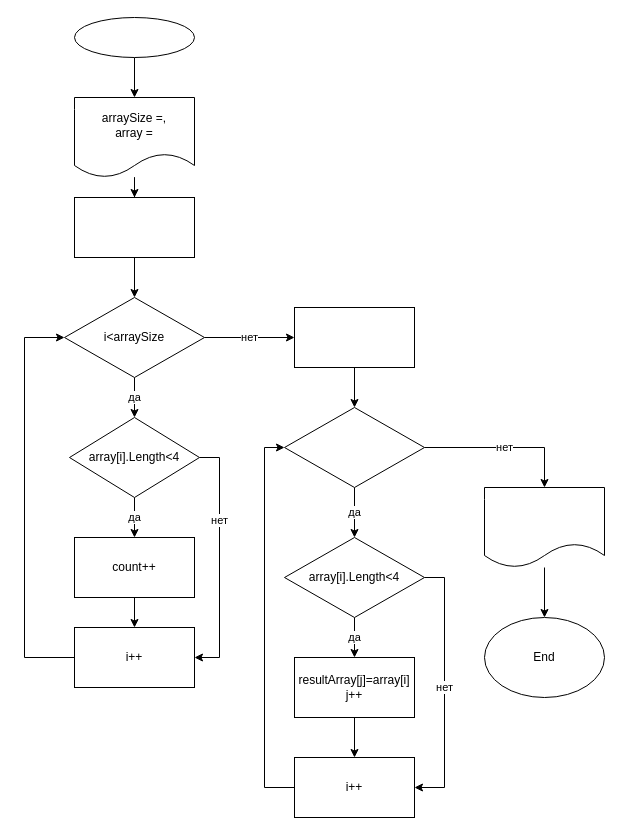
Image size: 622x835. Some labels were removed from this diagram. Each missing label, with the box of its shape:
count=0 i=0: (74, 196, 194, 258)
i < arraySize: (284, 406, 424, 488)
i = 0 j = 0: (294, 306, 414, 368)
resultArray: (484, 486, 604, 568)
Start: (74, 16, 194, 58)
